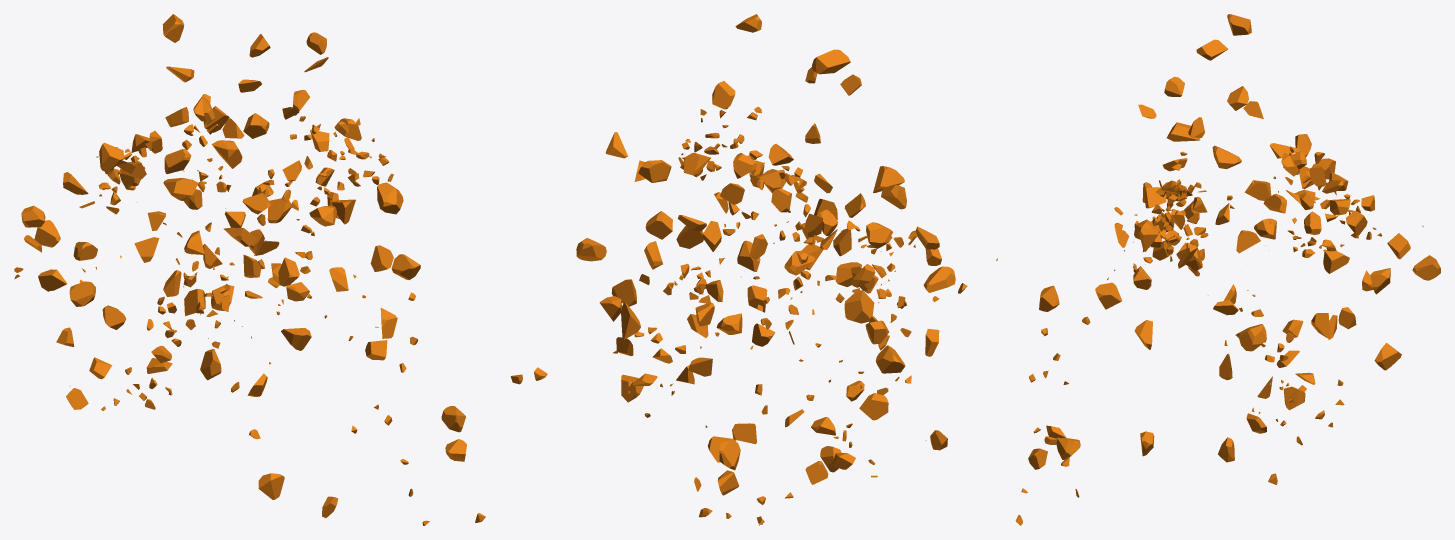
File: Explode_Cube.f0012.glb
The picture shows the model from 3 angles, left to right: view 1: azimuth 30°, elevation 25°; view 2: azimuth 150°, elevation 25°; view 3: azimuth 270°, elevation 25°; orthographic projection. The views are drawn at different scales.
Parts seen in each view (by area): view 1: Cube.125_cell.085; view 2: Cube.125_cell.033, Cube.125_cell.003, Cube.125_cell.075, Cube.125_cell.004, Cube.125_cell.093, Cube.125_cell.052, Cube.125_cell.085, Cube.125_cell.014, Cube.125_cell.081, Cube.125_cell.067, Cube.125_cell.012, Cube.125_cell.020 (+4 smaller); view 3: Cube.125_cell.085.
Part boxes in pixels (x1,y1,x2,y2): Cube.125_cell.085: [377, 182, 403, 214]; Cube.125_cell.033: [844, 290, 874, 323]; Cube.125_cell.003: [812, 49, 850, 74]; Cube.125_cell.075: [923, 266, 955, 292]; Cube.125_cell.004: [876, 345, 905, 373]; Cube.125_cell.093: [638, 160, 671, 182]; Cube.125_cell.052: [859, 393, 888, 420]; Cube.125_cell.085: [576, 238, 606, 261]; Cube.125_cell.014: [645, 211, 672, 239]; Cube.125_cell.081: [873, 166, 904, 192]; Cube.125_cell.067: [866, 222, 893, 248]; Cube.125_cell.012: [719, 441, 740, 470]; Cube.125_cell.020: [621, 302, 640, 339]; Cube.125_cell.085: [1238, 324, 1266, 351].
Size of the model in its own units: 6.98 by 7.75 by 7.33.
